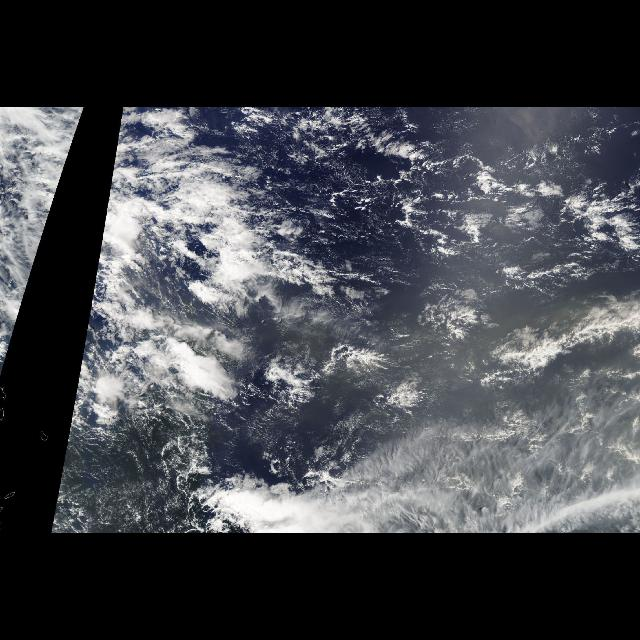Gravel: (249, 114, 639, 370)
